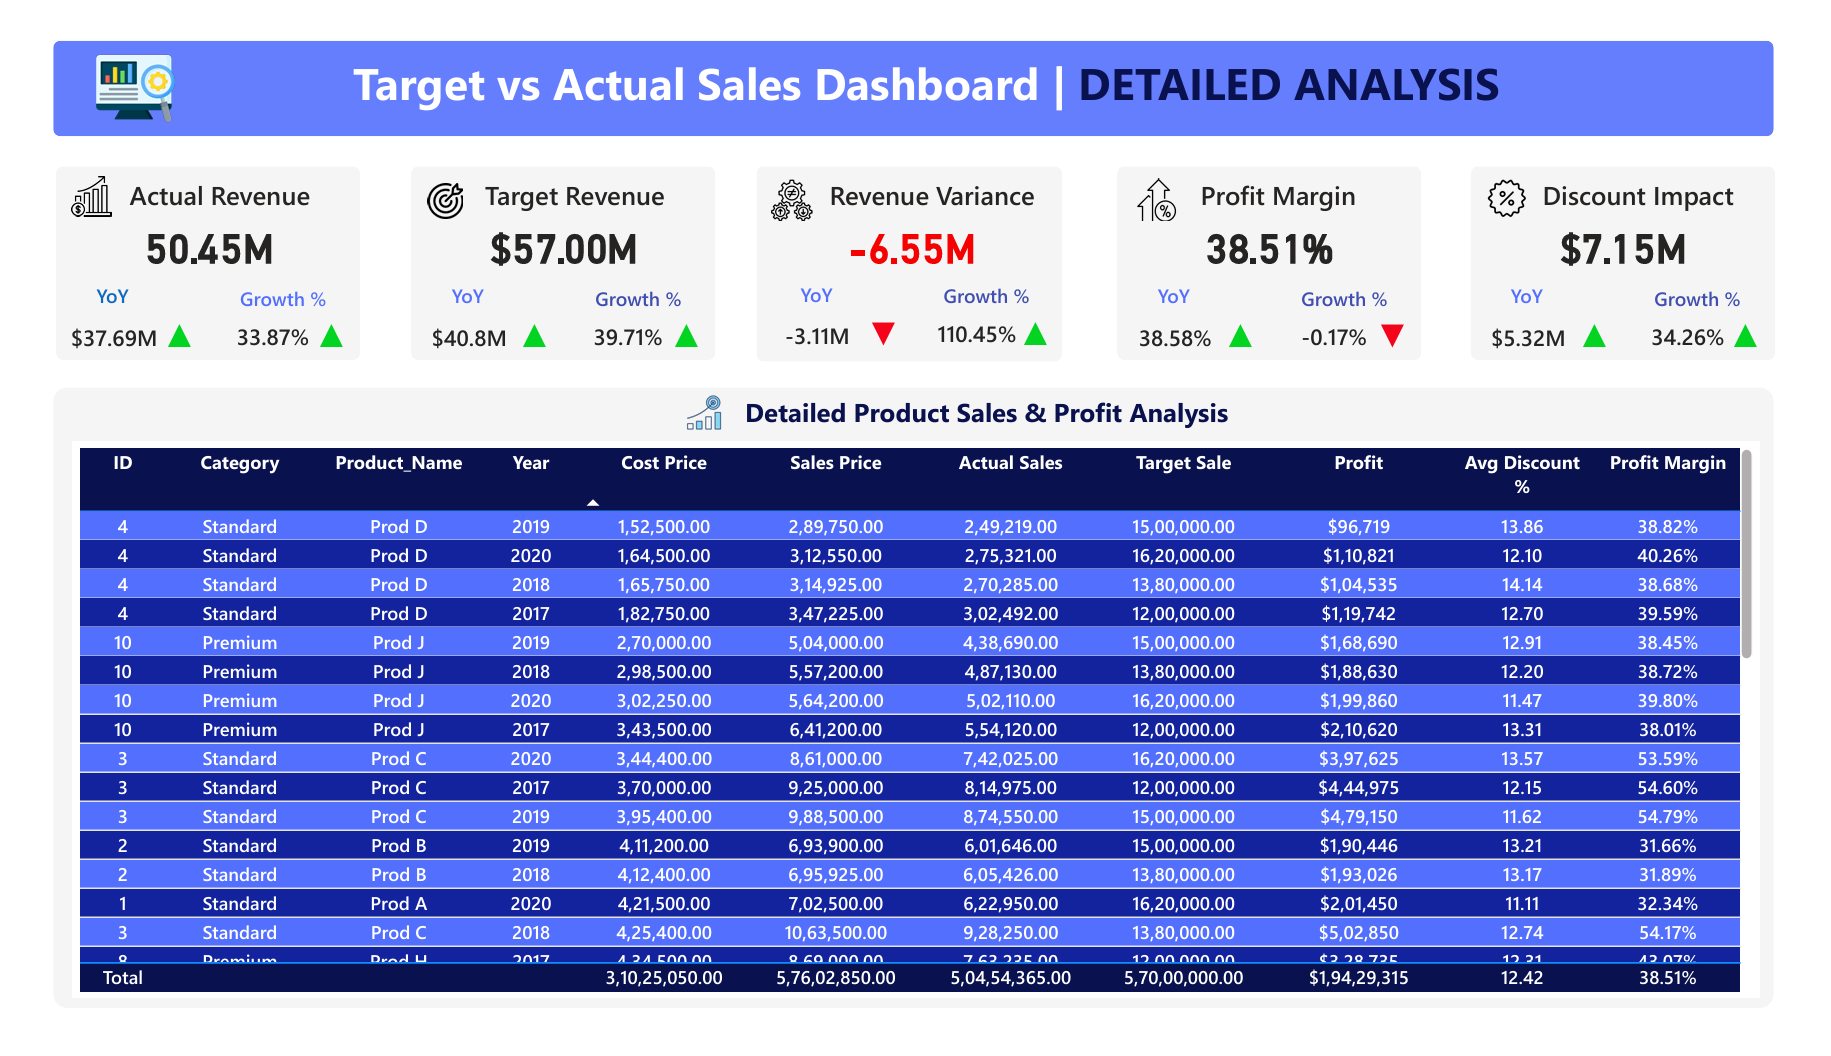

What the dashboard file says about the page in this screenshot:
{"tool":"powerbi","page":{"name":"Detailed Analysis","canvas":[1280,720],"ordinal":4},"visuals":[{"type":"shape","box":[15.9,7.2,1245.1,69.3],"z":0},{"type":"shape","box":[18.2,98.1,220,140],"z":0,"group":"g1"},{"type":"shape","box":[275,98.1,220,140],"z":0,"group":"g2"},{"type":"shape","box":[785.8,98.1,220,140],"z":0,"group":"g3"},{"type":"shape","box":[15.9,258.3,1245.1,448.7],"z":0},{"type":"card","fields":{"Values":["Calculation_col.Actual Sales"]},"box":[54.3,132.7,148.6,46.2],"z":1000,"group":"g1"},{"type":"card","fields":{"Values":["Calculation_col.Target Sales"]},"box":[311.1,132.7,148.6,46.2],"z":1000,"group":"g2"},{"type":"card","fields":{"Values":["Calculation_col.Profit Margin"]},"box":[821.9,132.7,148.6,46.2],"z":1000,"group":"g3"},{"type":"textbox","box":[62.9,101,147.2,34.6],"z":2000,"group":"g1"},{"type":"textbox","box":[319.7,101,147.2,34.6],"z":2000,"group":"g2"},{"type":"textbox","box":[829.1,101,147.2,34.6],"z":2000,"group":"g3"},{"type":"card","fields":{"Values":["Calculation_col.YoY Sales"]},"box":[18.2,209.2,83.7,30.3],"z":3000,"group":"g1"},{"type":"card","fields":{"Values":["Calculation_col.YoY Target Sales"]},"box":[275,209.2,83.7,30.3],"z":3000,"group":"g2"},{"type":"card","fields":{"Values":["Calculation_col.YoY Profit M"]},"box":[785.8,209.2,83.7,30.3],"z":3000,"group":"g3"},{"type":"shape","box":[1041.7,98.1,220,140],"z":4000},{"type":"card","fields":{"Values":["Calculation_col.YoY Growth Sales %"]},"box":[133.6,209.2,83.7,27.4],"z":4000,"group":"g1"},{"type":"card","fields":{"Values":["Calculation_col.YoY Target Growth Sales %"]},"box":[390.4,209.2,83.7,27.4],"z":4000,"group":"g2"},{"type":"card","fields":{"Values":["Calculation_col.YoY profit m growth %"]},"box":[901.2,209.2,83.7,27.4],"z":4000,"group":"g3"},{"type":"textbox","box":[19.6,177.5,79.4,31.7],"z":5000,"group":"g1"},{"type":"textbox","box":[276.4,177.5,79.4,31.7],"z":5000,"group":"g2"},{"type":"textbox","box":[787.2,177.5,79.4,31.7],"z":5000,"group":"g3"},{"type":"textbox","box":[137.9,178.9,89.5,31.7],"z":6000,"group":"g1"},{"type":"textbox","box":[394.7,178.9,89.5,31.7],"z":6000,"group":"g2"},{"type":"textbox","box":[905.5,178.9,89.5,31.7],"z":6000,"group":"g3"},{"type":"shape","box":[525.2,98.1,220.7,141.4],"z":7000},{"type":"card","fields":{"Values":["Calculation_col.Sales_icon"]},"box":[86,203.4,43.3,34.6],"z":7000,"group":"g1"},{"type":"card","fields":{"Values":["Calculation_col.Target 1_icon"]},"box":[342.8,203.4,43.3,34.6],"z":7000,"group":"g2"},{"type":"card","fields":{"Values":["Calculation_col.PM YoY 1"]},"box":[853.6,203.4,43.3,34.6],"z":7000,"group":"g3"},{"type":"card","fields":{"Values":["Calculation_col.Discount Impact"]},"box":[1077.7,132.7,148.6,46.2],"z":8000},{"type":"card","fields":{"Values":["Calculation_col.Sales_2 icon"]},"box":[195.7,203.4,43.3,34.6],"z":8000,"group":"g1"},{"type":"card","fields":{"Values":["Calculation_col.Target 2_icon"]},"box":[452.5,203.4,43.3,34.6],"z":8000,"group":"g2"},{"type":"card","fields":{"Values":["Calculation_col.PM YoY 2"]},"box":[963.3,203.4,43.3,34.6],"z":8000,"group":"g3"},{"type":"textbox","box":[228,10.1,1051.8,73.6],"z":9000},{"type":"card","fields":{"Values":["Calculation_col.Sales Varience"]},"box":[562.7,132.7,148.6,46.2],"z":10000},{"type":"textbox","box":[559.8,101,178.9,39],"z":11000},{"type":"textbox","box":[1082.1,101,161.6,34.6],"z":12000},{"type":"card","fields":{"Values":["Calculation_col.YoY Sales Variance"]},"box":[527.2,207.3,83.7,30.3],"z":13000},{"type":"card","fields":{"Values":["Calculation_col.YoY Discount"]},"box":[1041.7,209.2,83.7,30.3],"z":14000},{"type":"group","id":"g1","title":"Group 1","box":[18.2,98.1,220.7,141.4],"z":15000},{"type":"card","fields":{"Values":["Calculation_col.YoY Discount Growth %"]},"box":[1157.1,209.2,83.7,27.4],"z":16000},{"type":"card","fields":{"Values":["Calculation_col.YoY Sales Variance %"]},"box":[642.6,207.3,83.7,27.4],"z":17000},{"type":"textbox","box":[1043.1,177.5,79.4,31.7],"z":18000},{"type":"group","id":"g2","title":"Group 1","box":[275,98.1,220.7,141.4],"z":19000},{"type":"textbox","box":[1161.4,178.9,89.5,31.7],"z":20000},{"type":"textbox","box":[528.6,175.6,79.4,31.7],"z":21000},{"type":"card","fields":{"Values":["Calculation_col.Discount 1_icon"]},"box":[1109.5,203.4,43.3,34.6],"z":22000},{"type":"card","fields":{"Values":["Calculation_col.Discount 2_icon"]},"box":[1219.1,203.4,43.3,34.6],"z":23000},{"type":"textbox","box":[646.9,177,89.5,31.7],"z":24000},{"type":"card","fields":{"Values":["Calculation_col.Variance 2_icon"]},"box":[704.6,201.5,43.3,34.6],"z":25000},{"type":"card","fields":{"Values":["Calculation_col.VAriance 1_icon"]},"box":[595,201.5,43.3,34.6],"z":26000},{"type":"group","id":"g3","title":"Group 1","box":[785.8,98.1,220.7,141.4],"z":27000},{"type":"image","box":[1046,101,43.3,40.4],"z":32000},{"type":"image","box":[789.2,102.4,50.5,40.4],"z":33000},{"type":"image","box":[14.4,99.6,57.7,39],"z":34000},{"type":"image","box":[279.9,105.3,39,36.1],"z":35000},{"type":"image","box":[526.6,102.4,47.6,40.4],"z":36000},{"type":"image","box":[0,7.2,150,69.3],"z":47000},{"type":"tableEx","fields":{"Values":["Dim_product_detail.Product_Id","Dim_product_detail.Product_Category","Dim_product_detail.Product_Name","Calender.Year","Sum(fact_actual_sales.cost_price_value)","Sum(fact_actual_sales.sales_price_value)","Sum(fact_actual_sales.final_sales_price)","Sum(Dim_target_sales.Target_Sale)","Calculation_col.Actual Profit","Calculation_col.Avg Discount %","Calculation_col.Profit Margin"]},"box":[30.3,297.2,1220.6,402.5],"z":47001},{"type":"textbox","box":[499.2,258.3,385.2,40.4],"z":47002},{"type":"image","box":[460.2,258.3,53.4,36.1],"z":47003}]}

Visuals, with their boxes in screenshot pixels (x1, y1, x2, y2), scaled from the page's 1280x720 canvas onto the 1831x1056 screenshot:
shape: box(23, 11, 1804, 112)
shape: box(26, 144, 341, 349)
shape: box(393, 144, 708, 349)
shape: box(1124, 144, 1439, 349)
shape: box(23, 379, 1804, 1037)
card - Calculation_col.Actual Sales: box(78, 195, 290, 262)
card - Calculation_col.Target Sales: box(445, 195, 658, 262)
card - Calculation_col.Profit Margin: box(1176, 195, 1388, 262)
textbox: box(90, 148, 301, 199)
textbox: box(457, 148, 668, 199)
textbox: box(1186, 148, 1397, 199)
card - Calculation_col.YoY Sales: box(26, 307, 146, 351)
card - Calculation_col.YoY Target Sales: box(393, 307, 513, 351)
card - Calculation_col.YoY Profit M: box(1124, 307, 1244, 351)
shape: box(1490, 144, 1805, 349)
card - Calculation_col.YoY Growth Sales %: box(191, 307, 311, 347)
card - Calculation_col.YoY Target Growth Sales %: box(558, 307, 678, 347)
card - Calculation_col.YoY profit m growth %: box(1289, 307, 1409, 347)
textbox: box(28, 260, 142, 307)
textbox: box(395, 260, 509, 307)
textbox: box(1126, 260, 1240, 307)
textbox: box(197, 262, 325, 309)
textbox: box(565, 262, 693, 309)
textbox: box(1295, 262, 1423, 309)
shape: box(751, 144, 1067, 351)
card - Calculation_col.Sales_icon: box(123, 298, 185, 349)
card - Calculation_col.Target 1_icon: box(490, 298, 552, 349)
card - Calculation_col.PM YoY 1: box(1221, 298, 1283, 349)
card - Calculation_col.Discount Impact: box(1542, 195, 1754, 262)
card - Calculation_col.Sales_2 icon: box(280, 298, 342, 349)
card - Calculation_col.Target 2_icon: box(647, 298, 709, 349)
card - Calculation_col.PM YoY 2: box(1378, 298, 1440, 349)
textbox: box(326, 15, 1830, 123)
card - Calculation_col.Sales Varience: box(805, 195, 1017, 262)
textbox: box(801, 148, 1057, 205)
textbox: box(1548, 148, 1779, 199)
card - Calculation_col.YoY Sales Variance: box(754, 304, 874, 348)
card - Calculation_col.YoY Discount: box(1490, 307, 1610, 351)
"Group 1" group: box(26, 144, 342, 351)
card - Calculation_col.YoY Discount Growth %: box(1655, 307, 1775, 347)
card - Calculation_col.YoY Sales Variance %: box(919, 304, 1039, 344)
textbox: box(1492, 260, 1606, 307)
"Group 1" group: box(393, 144, 709, 351)
textbox: box(1661, 262, 1789, 309)
textbox: box(756, 258, 870, 304)
card - Calculation_col.Discount 1_icon: box(1587, 298, 1649, 349)
card - Calculation_col.Discount 2_icon: box(1744, 298, 1806, 349)
textbox: box(925, 260, 1053, 306)
card - Calculation_col.Variance 2_icon: box(1008, 296, 1070, 346)
card - Calculation_col.VAriance 1_icon: box(851, 296, 913, 346)
"Group 1" group: box(1124, 144, 1440, 351)
image: box(1496, 148, 1558, 207)
image: box(1129, 150, 1201, 209)
image: box(21, 146, 103, 203)
image: box(400, 154, 456, 207)
image: box(753, 150, 821, 209)
image: box(0, 11, 215, 112)
tableEx - Dim_product_detail.Product_Id x Dim_product_detail.Product_Category: box(43, 436, 1789, 1026)
textbox: box(714, 379, 1265, 438)
image: box(658, 379, 735, 432)
